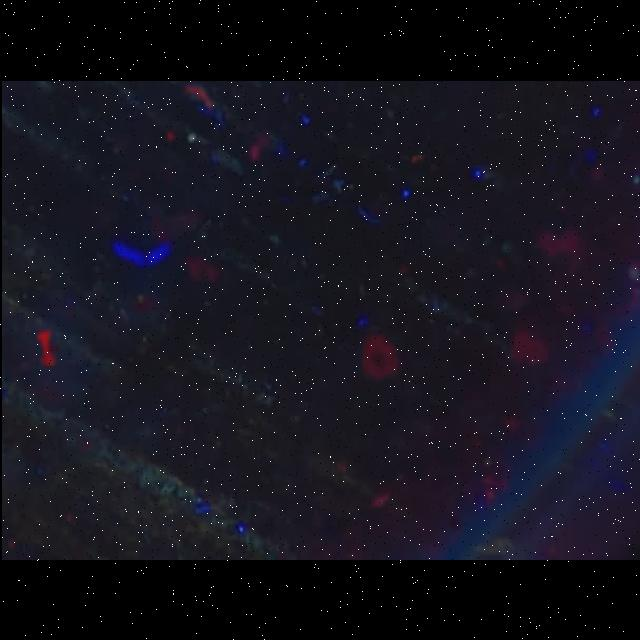Fragment: (361, 334, 396, 379)
